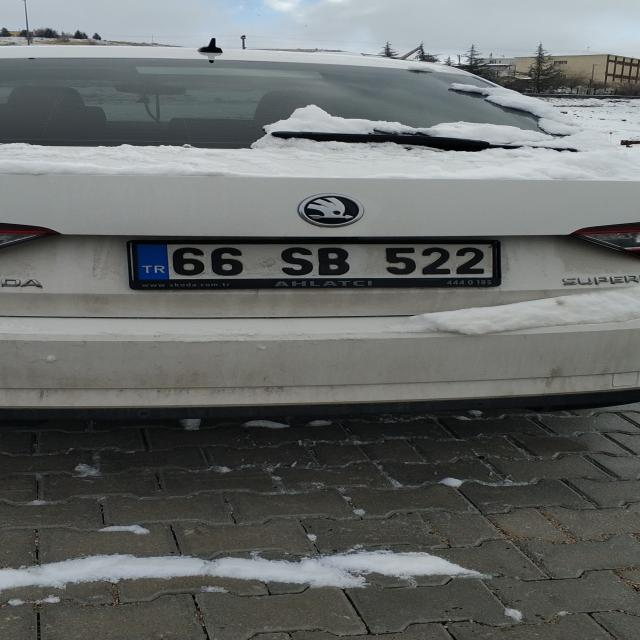plate: (133, 243, 496, 280)
